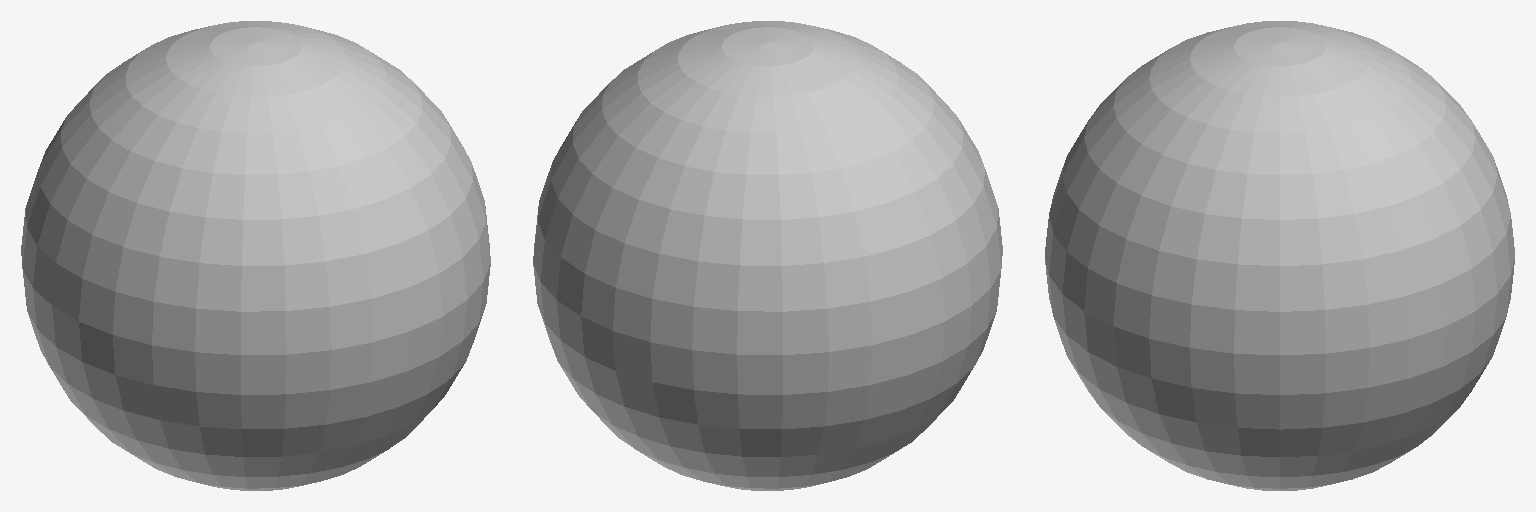
The model's file is ball.obj.
3 views of the same model, side by side, from view 1: azimuth 30°, elevation 25°; view 2: azimuth 150°, elevation 25°; view 3: azimuth 270°, elevation 25° (orthographic).
Parts seen in each view (by area): view 1: Sphere632; view 2: Sphere632; view 3: Sphere632.
Boxes of the visible parts, x1,y1,x2,y2 form: Sphere632: [21, 21, 490, 490]; Sphere632: [533, 21, 1002, 490]; Sphere632: [1045, 21, 1514, 490].
Bounding box in the file's own units: 120 × 120 × 120.